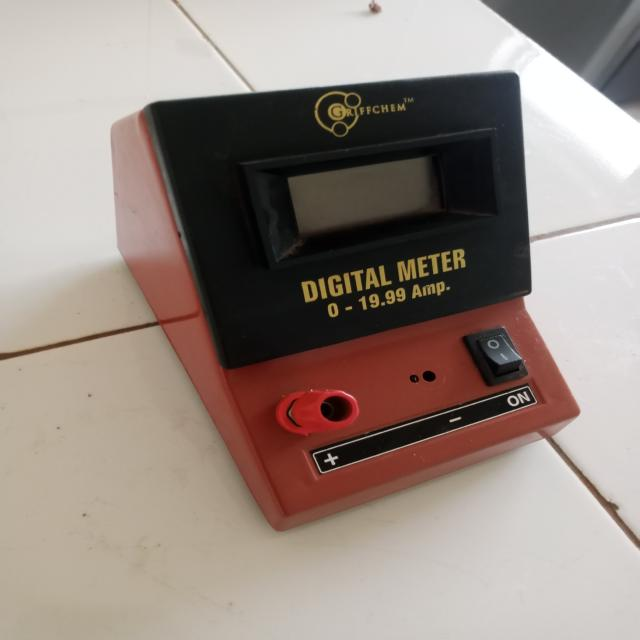Digital Ammeter: (101, 65, 586, 542)
